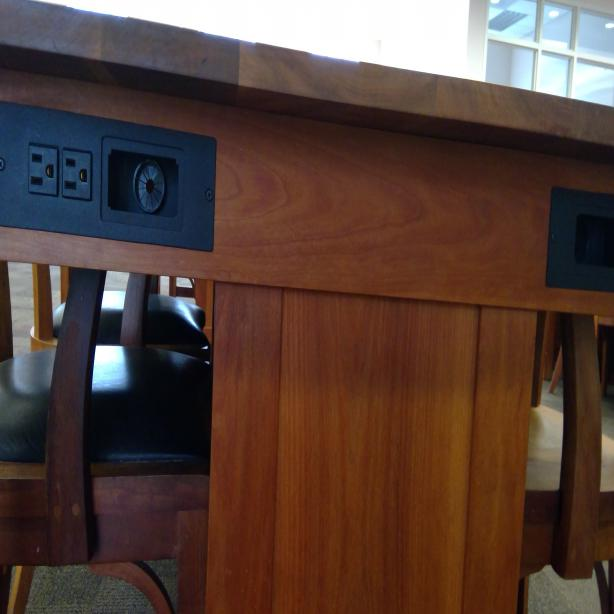typeb: (61, 144, 91, 196), (26, 147, 57, 196)
